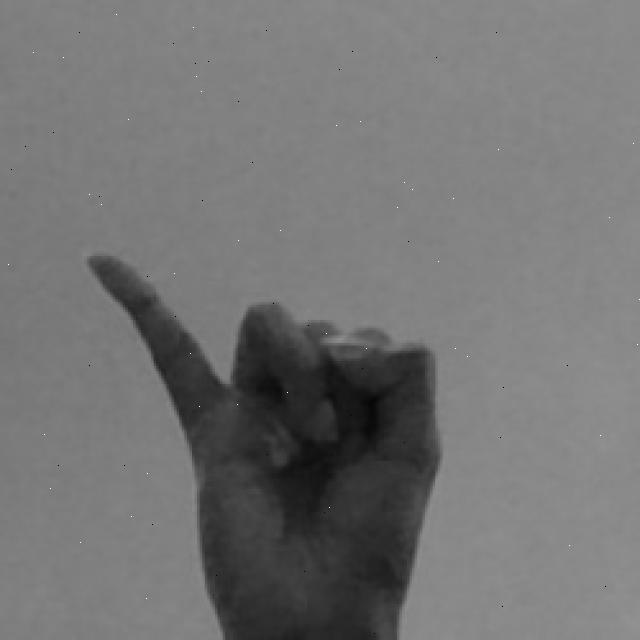I: (75, 247, 452, 640)
